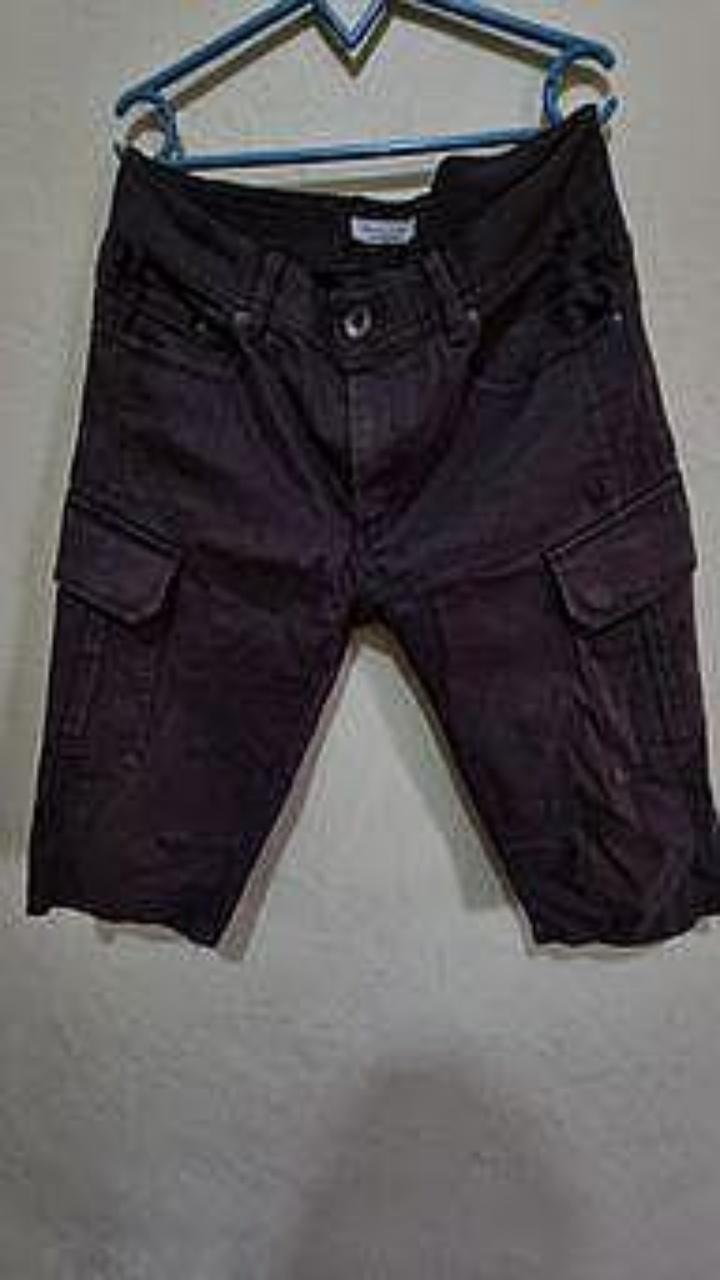Shorts: (27, 104, 719, 945)
